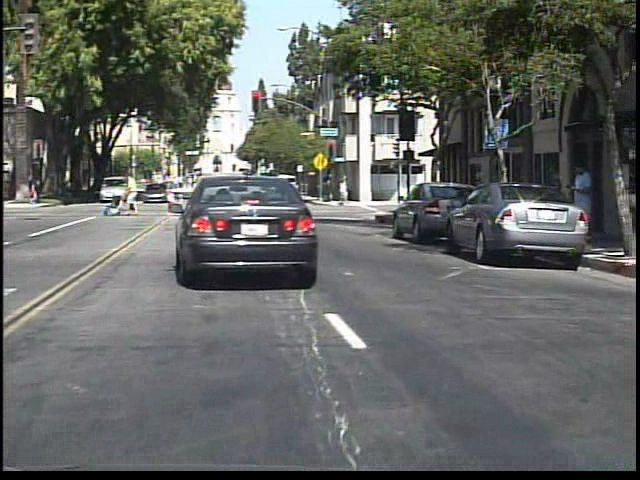person: (571, 155, 600, 256), (128, 170, 149, 217), (27, 174, 44, 208), (87, 174, 88, 205)
